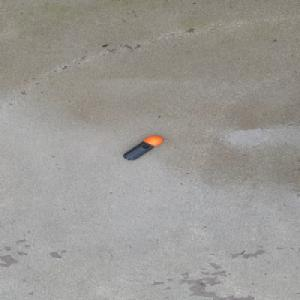PlasticPart: (121, 135, 164, 161)
